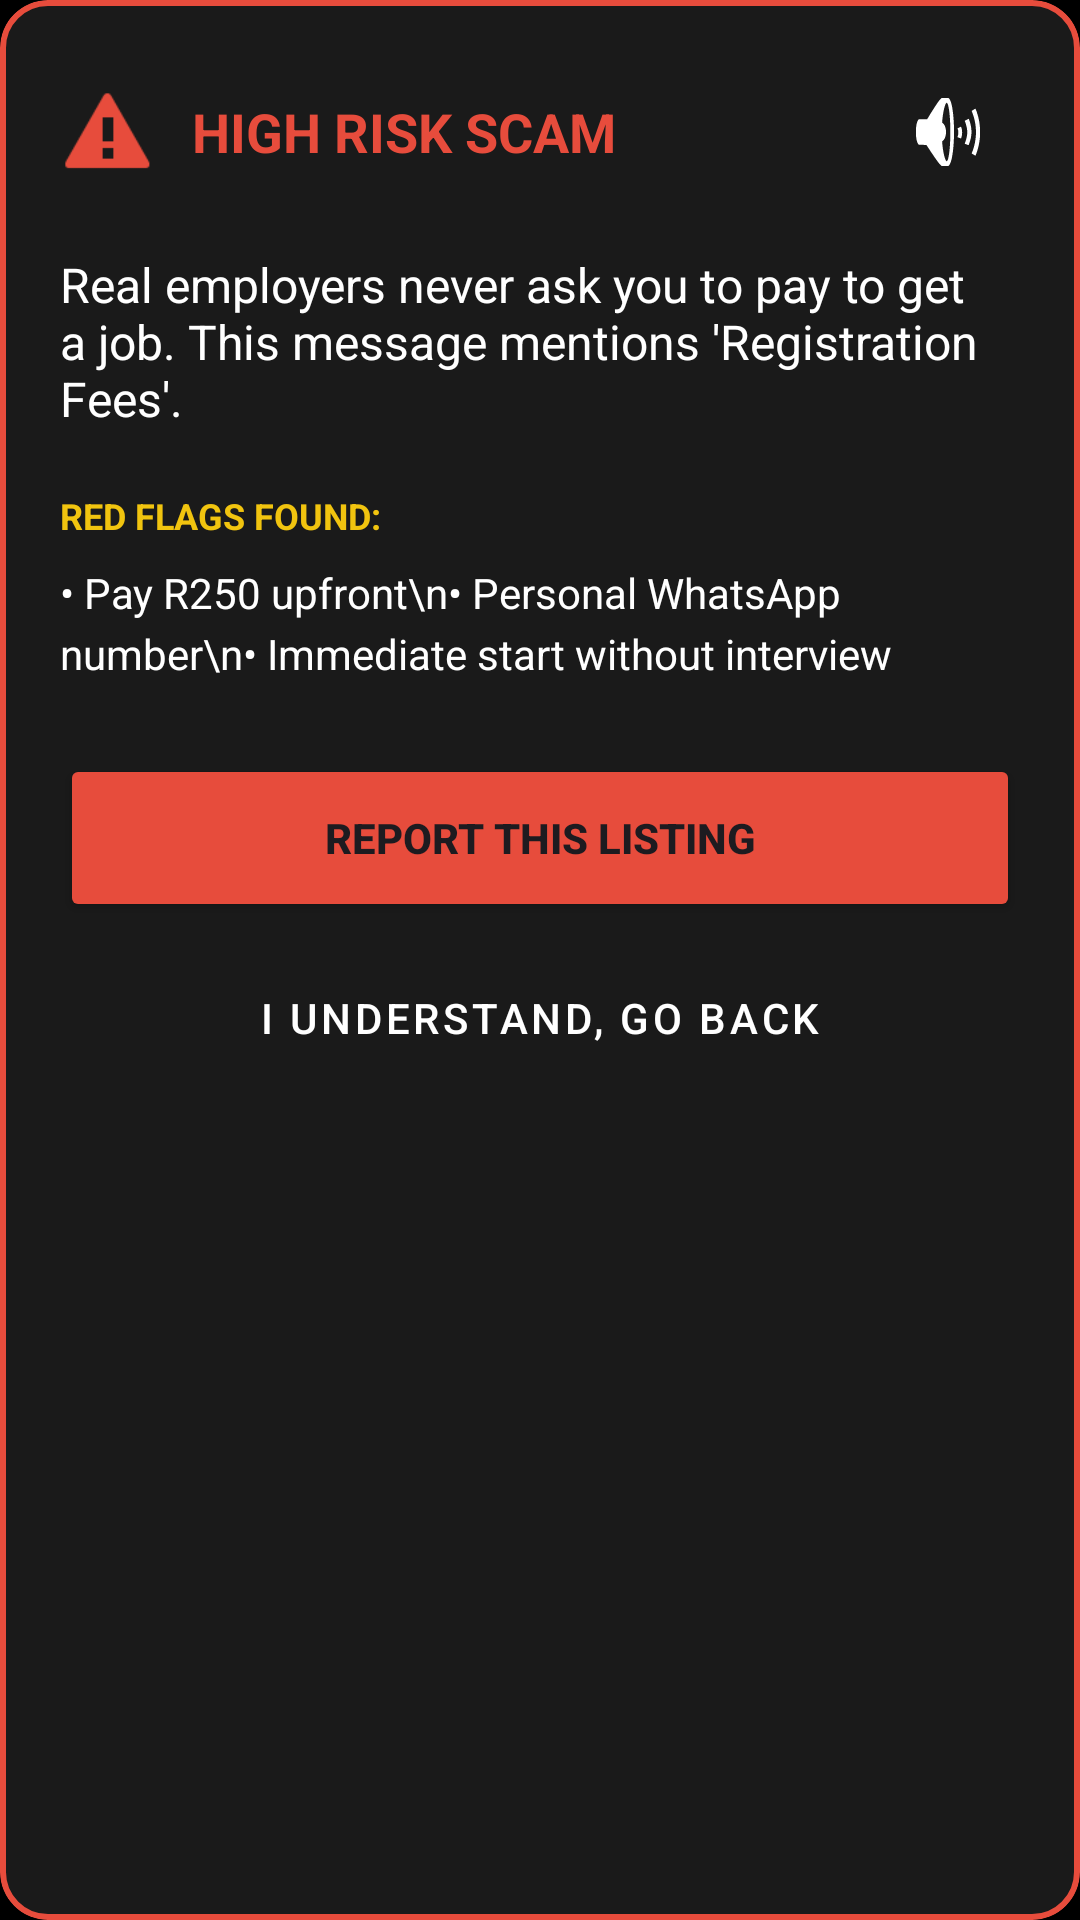

Where icons sit on this 1080w x 1920h app screen, as (x1, y1, x2, y2):
Listen to risk: (916, 98, 980, 166)
warning: (65, 93, 150, 169)
